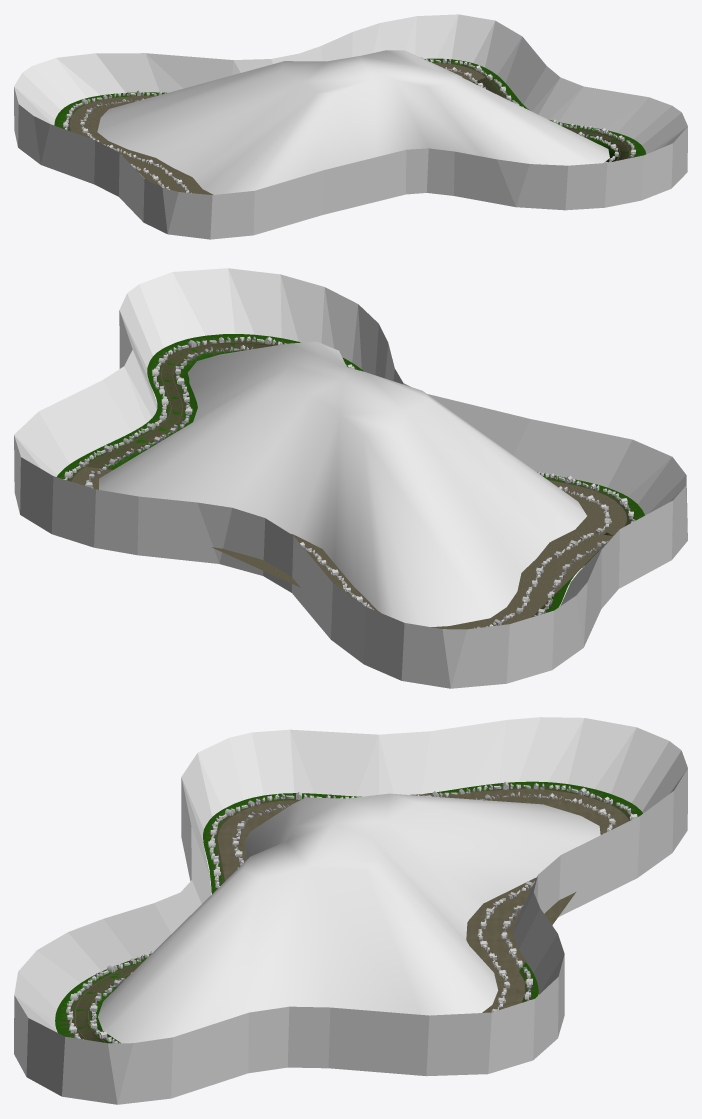
File: Level -1 Enviornment .fbx
3 views of the same model, one above another, from view 1: azimuth 30°, elevation 25°; view 2: azimuth 150°, elevation 25°; view 3: azimuth 270°, elevation 25° (orthographic). The views are drawn at different scales.
Visible parts, largest first — view 1: Terrain-2, Terrain, Ground-Wall, Main-Ground, Houses-2, Houses-1; view 2: Terrain-2, Terrain, Ground-Wall, Main-Ground, Houses-1, Houses-2; view 3: Terrain-2, Terrain, Ground-Wall, Main-Ground, Houses-2, Houses-1.
Part boxes in pixels (x1=…): Terrain-2: x1=14, y1=14, x2=687, y2=239; Terrain: x1=97, y1=50, x2=609, y2=194; Ground-Wall: x1=69, y1=63, x2=629, y2=194; Main-Ground: x1=54, y1=58, x2=645, y2=179; Houses-2: x1=63, y1=57, x2=635, y2=189; Houses-1: x1=80, y1=67, x2=618, y2=193; Terrain-2: x1=14, y1=268, x2=687, y2=688; Terrain: x1=99, y1=341, x2=586, y2=626; Ground-Wall: x1=71, y1=342, x2=626, y2=629; Main-Ground: x1=57, y1=334, x2=644, y2=616; Houses-1: x1=85, y1=345, x2=611, y2=628; Houses-2: x1=63, y1=336, x2=635, y2=616; Terrain-2: x1=14, y1=717, x2=687, y2=1104; Terrain: x1=98, y1=793, x2=600, y2=1043; Ground-Wall: x1=75, y1=789, x2=629, y2=1042; Main-Ground: x1=55, y1=781, x2=642, y2=1043; Houses-2: x1=66, y1=782, x2=637, y2=1039; Houses-1: x1=90, y1=791, x2=615, y2=1043.
Size of the model in its own units: 179552 by 31580 by 156470.
